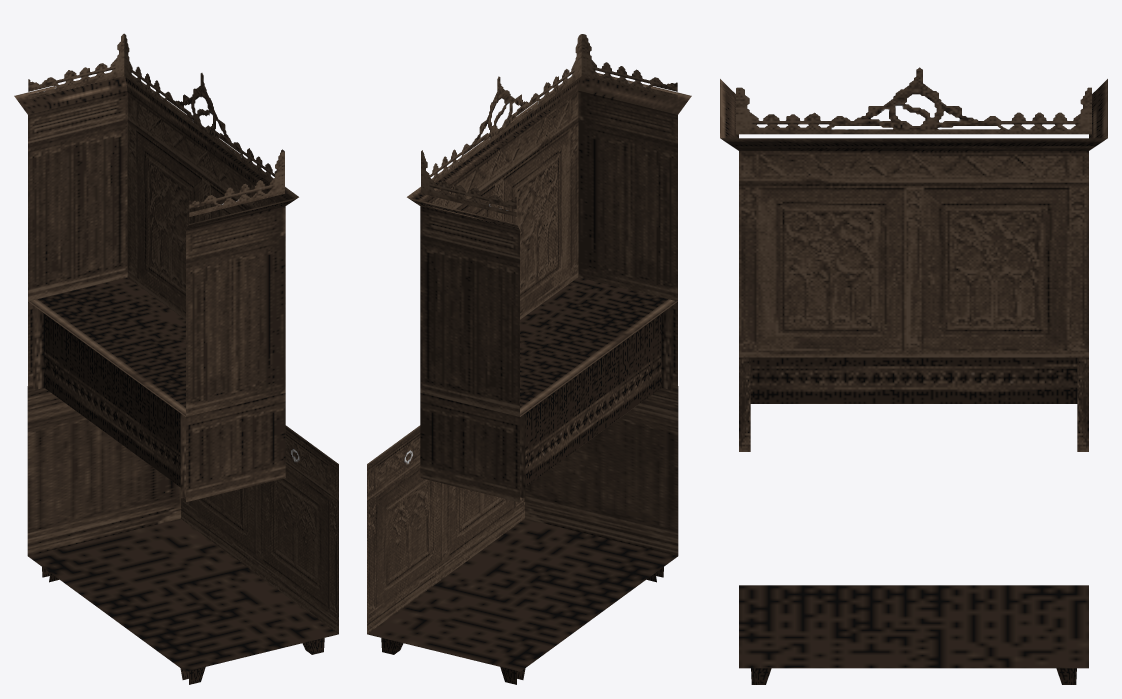
Rendered from alto.fbx.
The picture shows the model from 3 angles, left to right: view 1: azimuth 30°, elevation 25°; view 2: azimuth 150°, elevation 25°; view 3: azimuth 270°, elevation 25°; orthographic projection. The views are drawn at different scales.
Parts seen in each view (by area): view 1: Superior, Alto, Cube.020, Cube.036, Cube.017, patas.001; view 2: Superior, Alto, Cube.020, Cube.036, Cube.017, patas.001; view 3: Superior, Alto, Cube.036, Cube.017, Cube.020, patas.001.
Boxes of the visible parts, x1=… form: Superior: x1=14, y1=72, x2=298, y2=416; Alto: x1=27, y1=384, x2=338, y2=671; Cube.020: x1=28, y1=302, x2=285, y2=502; Cube.036: x1=44, y1=314, x2=180, y2=487; Cube.017: x1=28, y1=33, x2=284, y2=216; patas.001: x1=42, y1=567, x2=324, y2=684; Superior: x1=407, y1=73, x2=691, y2=416; Alto: x1=367, y1=384, x2=678, y2=671; Cube.020: x1=420, y1=302, x2=677, y2=502; Cube.036: x1=525, y1=314, x2=661, y2=487; Cube.017: x1=421, y1=34, x2=677, y2=216; patas.001: x1=381, y1=567, x2=663, y2=684; Superior: x1=720, y1=79, x2=1107, y2=357; Alto: x1=739, y1=585, x2=1088, y2=668; Cube.036: x1=750, y1=357, x2=1077, y2=403; Cube.017: x1=736, y1=67, x2=1091, y2=134; Cube.020: x1=739, y1=357, x2=1088, y2=451; patas.001: x1=751, y1=668, x2=1076, y2=684.
Bounding box in the file's own units: 166 × 86.6 × 281.
Materials: 1 (1 with a texture image).
